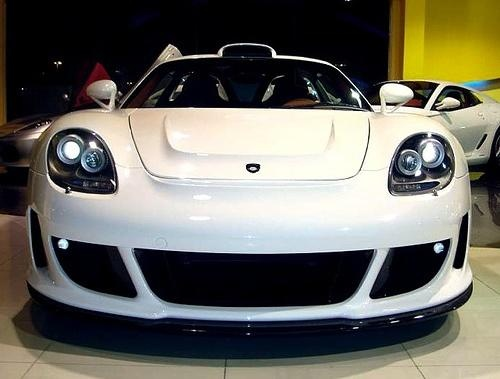car: (24, 43, 475, 335), (362, 80, 500, 169), (1, 112, 60, 168)
